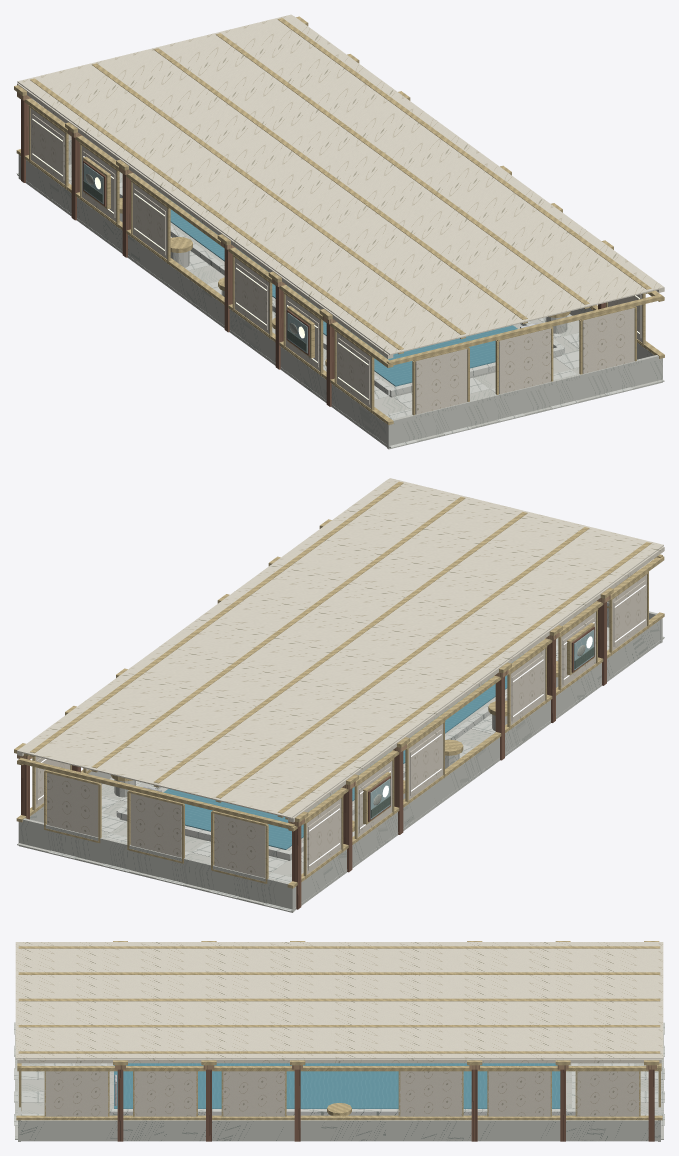
Rendered from pool.gltf.
3 renders of one model, top to bottom at view 1: azimuth 30°, elevation 25°; view 2: azimuth 150°, elevation 25°; view 3: azimuth 270°, elevation 25°, orthographic. The views are drawn at different scales.
Visible parts, largest first — view 1: ivory, gold, marble, cream, oakdark, tile, water, sky; view 2: ivory, gold, marble, cream, oakdark, tile, water, sky; view 3: ivory, gold, cream, marble, water, oakdark, tile, oak.
Part boxes in pixels (x1,y1,x2,y2): ivory: [17, 14, 664, 358]; gold: [14, 16, 664, 424]; marble: [17, 137, 664, 449]; cream: [30, 108, 642, 414]; oakdark: [21, 99, 605, 406]; tile: [16, 173, 632, 447]; water: [158, 191, 517, 386]; sky: [83, 163, 307, 353]; ivory: [17, 478, 664, 822]; gold: [14, 481, 664, 888]; marble: [17, 601, 664, 912]; cream: [35, 574, 646, 877]; oakdark: [21, 602, 606, 909]; tile: [48, 636, 664, 911]; water: [163, 654, 523, 849]; sky: [370, 629, 594, 819]; ivory: [15, 942, 663, 1063]; gold: [16, 941, 662, 1120]; cream: [45, 1071, 640, 1116]; marble: [15, 1034, 663, 1141]; water: [114, 1063, 560, 1108]; oakdark: [117, 1069, 654, 1141]; tile: [14, 1022, 664, 1125]; oak: [115, 1065, 656, 1069].
Bounding box in the file's own units: 9.28 × 2.99 × 20.96.
15 materials, 15 textured.
